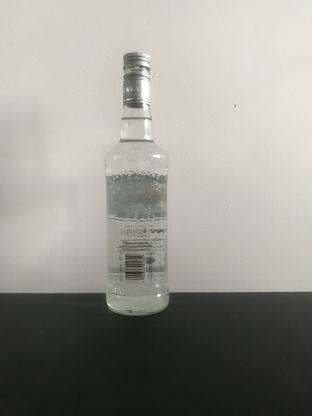nakretka: (121, 50, 152, 108)
